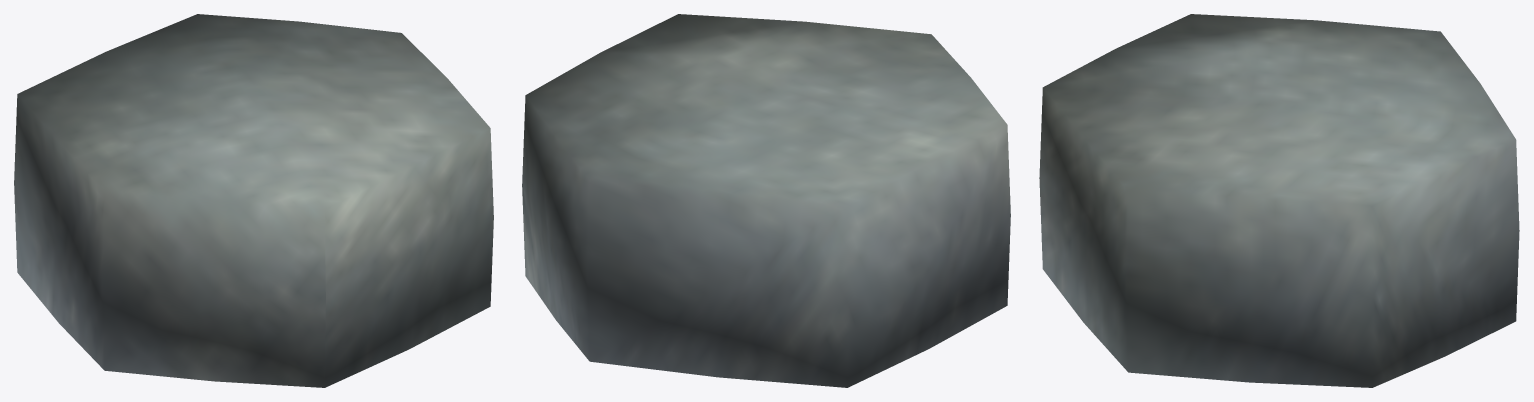
The model's file is rocks_003.fbx.
3 renders of one model, left to right at view 1: azimuth 30°, elevation 25°; view 2: azimuth 150°, elevation 25°; view 3: azimuth 270°, elevation 25°, orthographic.
Parts seen in each view (by area): view 1: rocks.003; view 2: rocks.003; view 3: rocks.003.
Boxes of the visible parts, <box> form: rocks.003: <box>14,14,493,387</box>; rocks.003: <box>522,14,1010,387</box>; rocks.003: <box>1039,14,1519,387</box>.
Bounding box in the file's own units: 42.14 × 20.53 × 43.88.
